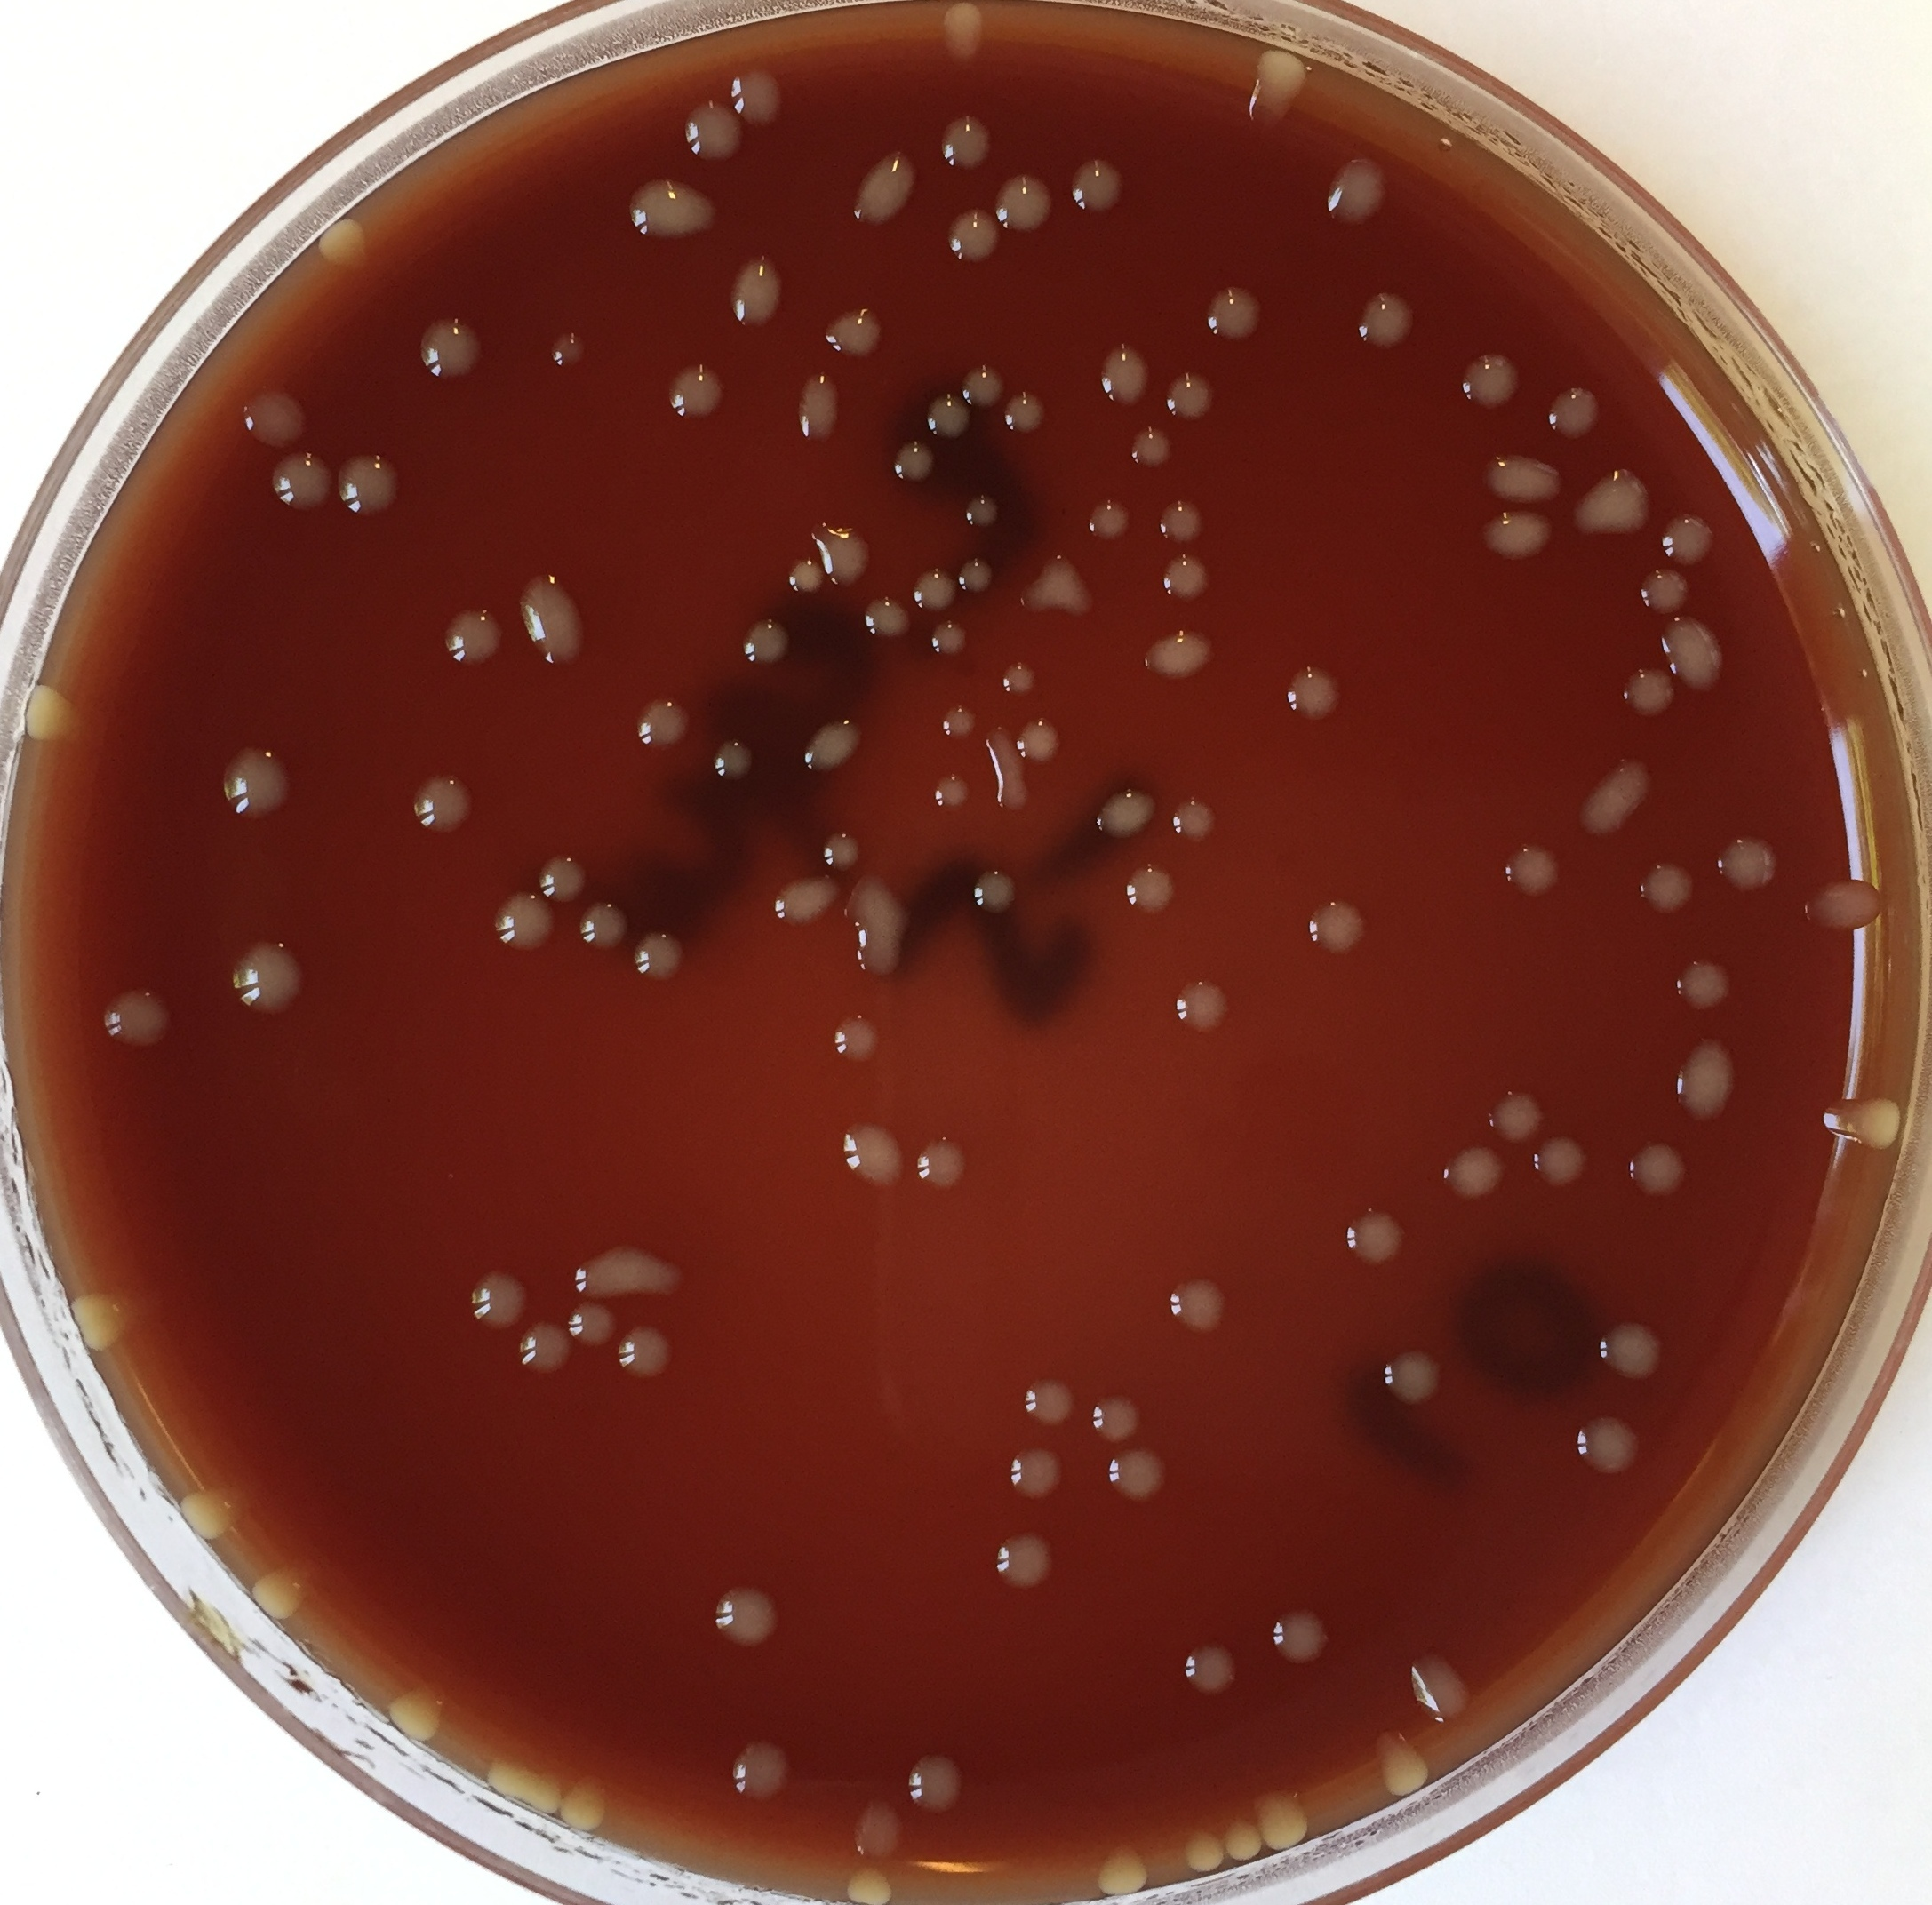sp19: (571, 1232, 688, 1310), (511, 570, 599, 672), (839, 872, 921, 975), (1569, 750, 1661, 837), (225, 935, 312, 1024), (1663, 1031, 1742, 1127), (1572, 461, 1660, 544), (843, 147, 927, 234), (1810, 1083, 1909, 1157), (1655, 614, 1738, 700), (473, 1748, 569, 1821), (623, 174, 721, 246), (66, 1279, 159, 1350), (724, 1727, 803, 1807), (1246, 1778, 1326, 1856), (1017, 550, 1100, 626), (1796, 872, 1888, 940), (215, 741, 298, 815), (1565, 1406, 1649, 1479), (1407, 1643, 1478, 1727), (246, 1549, 332, 1619), (99, 980, 180, 1054), (1323, 152, 1393, 236), (832, 1118, 908, 1195), (1248, 44, 1311, 134), (976, 720, 1033, 818), (841, 1786, 916, 1860), (990, 1528, 1066, 1600), (487, 886, 560, 959), (712, 1581, 787, 1652), (236, 386, 312, 455), (730, 609, 808, 677), (1480, 445, 1572, 502), (1274, 658, 1347, 729), (176, 1474, 253, 1542), (330, 450, 407, 518), (1712, 832, 1789, 898), (1476, 502, 1557, 565), (1339, 1204, 1412, 1272), (1438, 1139, 1511, 1207), (436, 604, 510, 672), (721, 61, 787, 136), (1354, 284, 1421, 359), (1164, 1272, 1241, 1336), (792, 712, 869, 776), (407, 771, 475, 843), (806, 516, 873, 590), (384, 1678, 459, 1743), (1363, 1727, 1433, 1795), (417, 309, 485, 379), (1380, 1342, 1447, 1411), (665, 354, 730, 426), (730, 249, 785, 331), (1098, 337, 1157, 413), (632, 691, 698, 759), (555, 1772, 625, 1837), (1182, 1638, 1250, 1703), (1595, 1314, 1663, 1378), (1140, 628, 1218, 684), (1204, 277, 1267, 347), (1499, 837, 1571, 898), (473, 1263, 531, 1338), (613, 1321, 679, 1385), (1271, 1607, 1337, 1671), (820, 297, 885, 363), (1101, 1443, 1169, 1506), (265, 452, 333, 515), (1457, 349, 1520, 417), (1002, 1443, 1072, 1504), (1089, 785, 1162, 843), (1541, 382, 1606, 447), (1305, 895, 1372, 958), (990, 171, 1056, 234), (902, 1746, 963, 1814), (1627, 1136, 1688, 1204), (794, 365, 845, 447), (1169, 975, 1232, 1040), (1487, 1083, 1552, 1146), (1658, 506, 1719, 572), (771, 871, 841, 928), (681, 101, 743, 164), (829, 1005, 890, 1069), (1635, 858, 1703, 916), (560, 1293, 623, 1354), (942, 206, 1004, 269), (23, 684, 87, 743), (1122, 860, 1183, 921), (1093, 1842, 1154, 1903), (574, 895, 637, 954), (909, 1132, 972, 1191), (1620, 661, 1679, 724), (1065, 157, 1127, 216), (935, 112, 995, 174), (515, 1319, 579, 1376), (1017, 1373, 1075, 1437), (969, 865, 1035, 921), (1531, 1132, 1595, 1188), (1087, 1390, 1150, 1446), (1635, 556, 1691, 619), (1155, 553, 1222, 604), (532, 846, 590, 904), (1674, 956, 1733, 1012), (627, 930, 686, 984), (1152, 492, 1213, 544), (309, 220, 372, 270), (1012, 708, 1065, 766), (997, 387, 1051, 441), (1164, 368, 1216, 422), (857, 593, 915, 642), (906, 562, 956, 616), (920, 393, 976, 441), (841, 1863, 906, 1905), (1168, 795, 1222, 844), (1122, 426, 1180, 471), (712, 731, 761, 782), (958, 361, 1007, 412), (1180, 1825, 1227, 1877), (927, 766, 979, 813), (1084, 499, 1138, 544), (892, 436, 939, 487), (817, 829, 867, 874), (1213, 1816, 1265, 1860), (541, 326, 592, 370), (927, 619, 974, 661), (784, 555, 831, 597), (958, 488, 1005, 529), (953, 555, 997, 597), (934, 705, 983, 741), (997, 656, 1040, 696)
